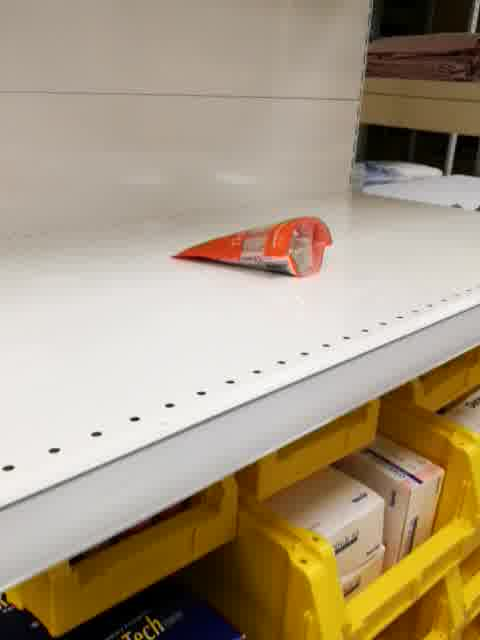whitechia: (169, 207, 333, 279)
